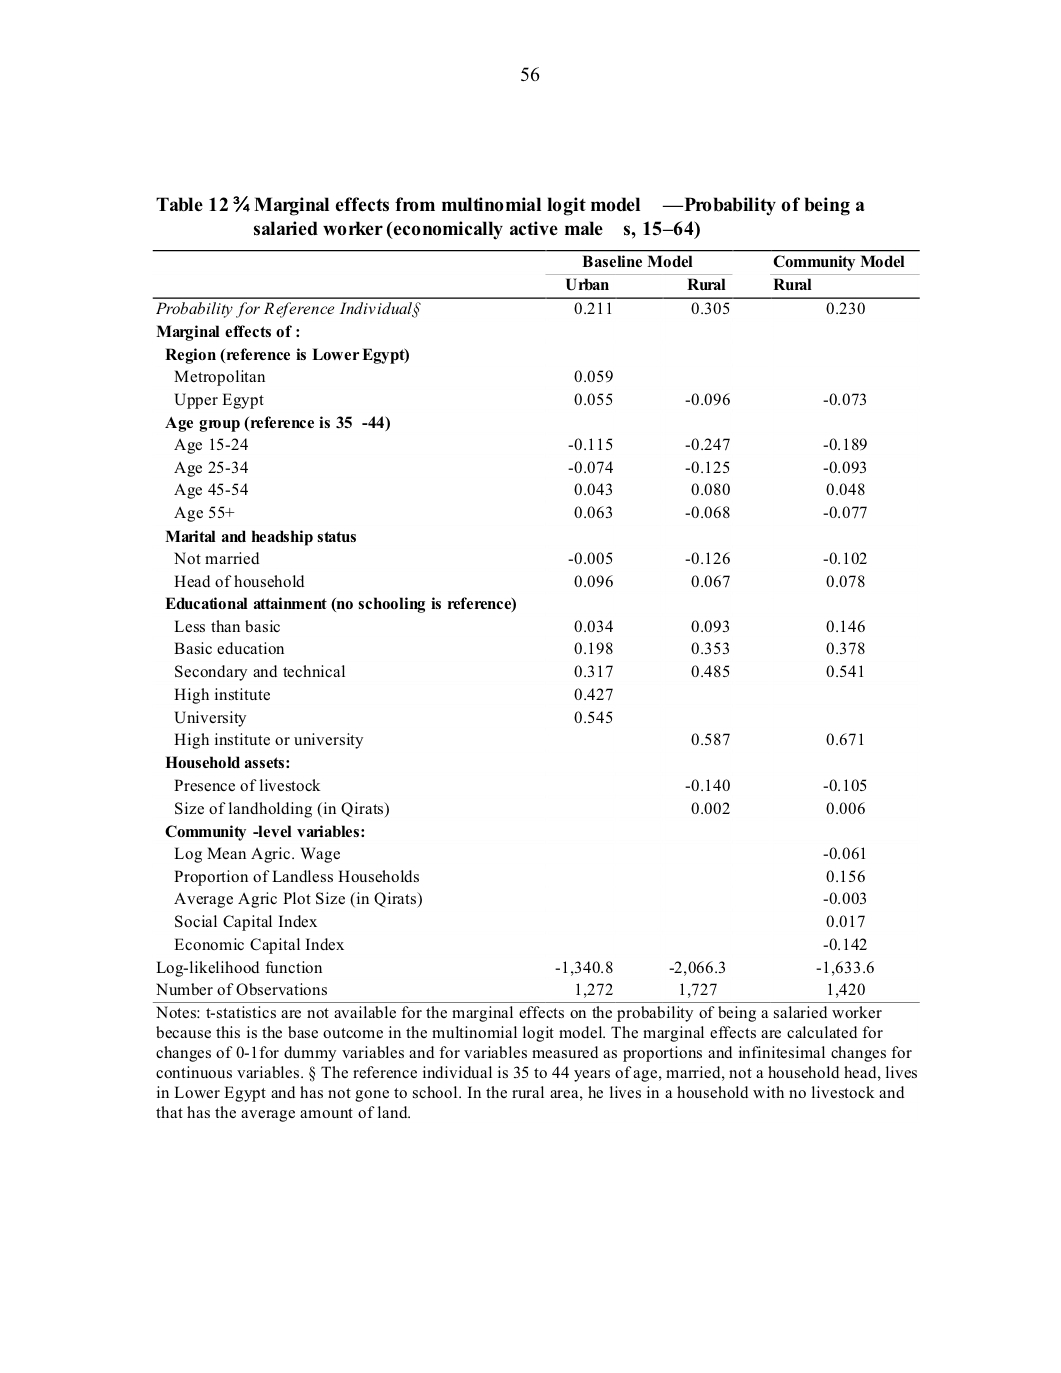Table: (152, 250, 919, 1002)
